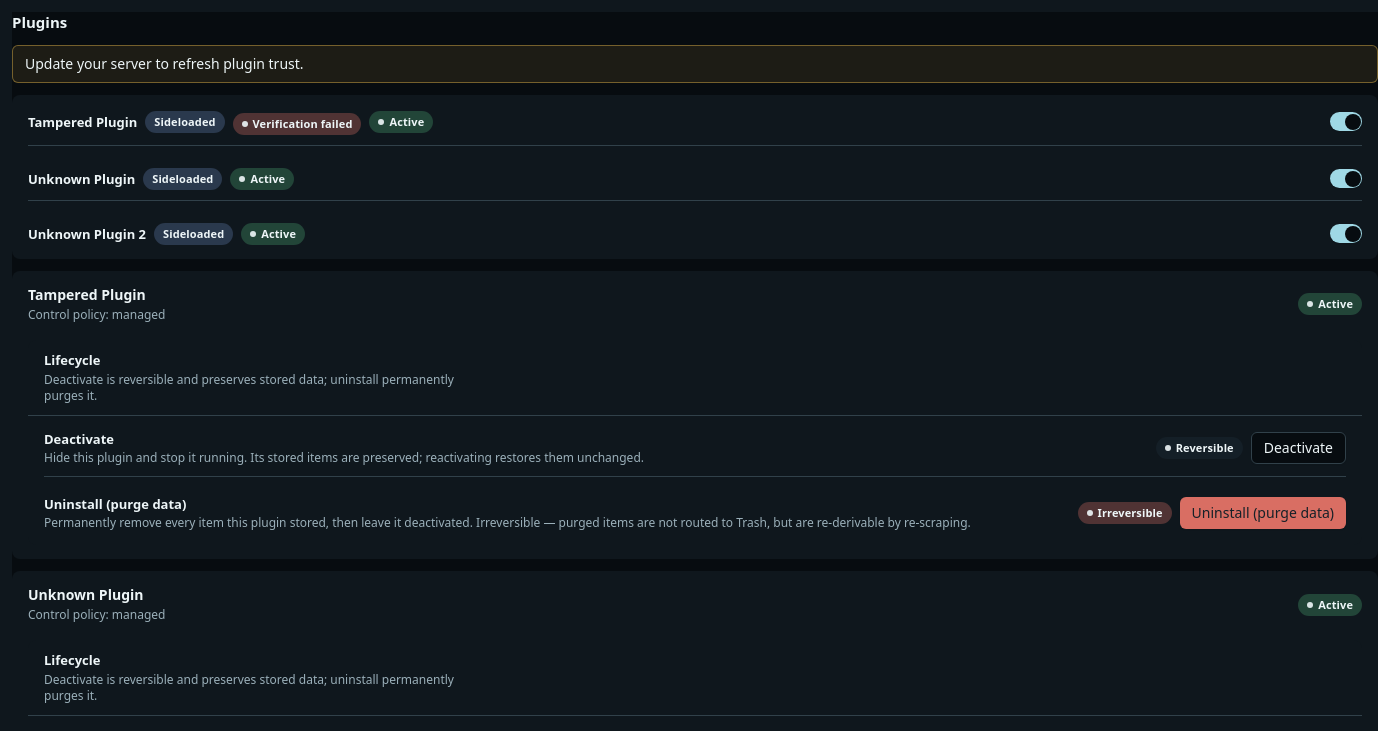
Test: Plugins › shows tamper detail and consolidates unrecognized trust into one banner
Step 1. Click the heading "Verification failed" → click(297, 122), box [233,109,362,135]
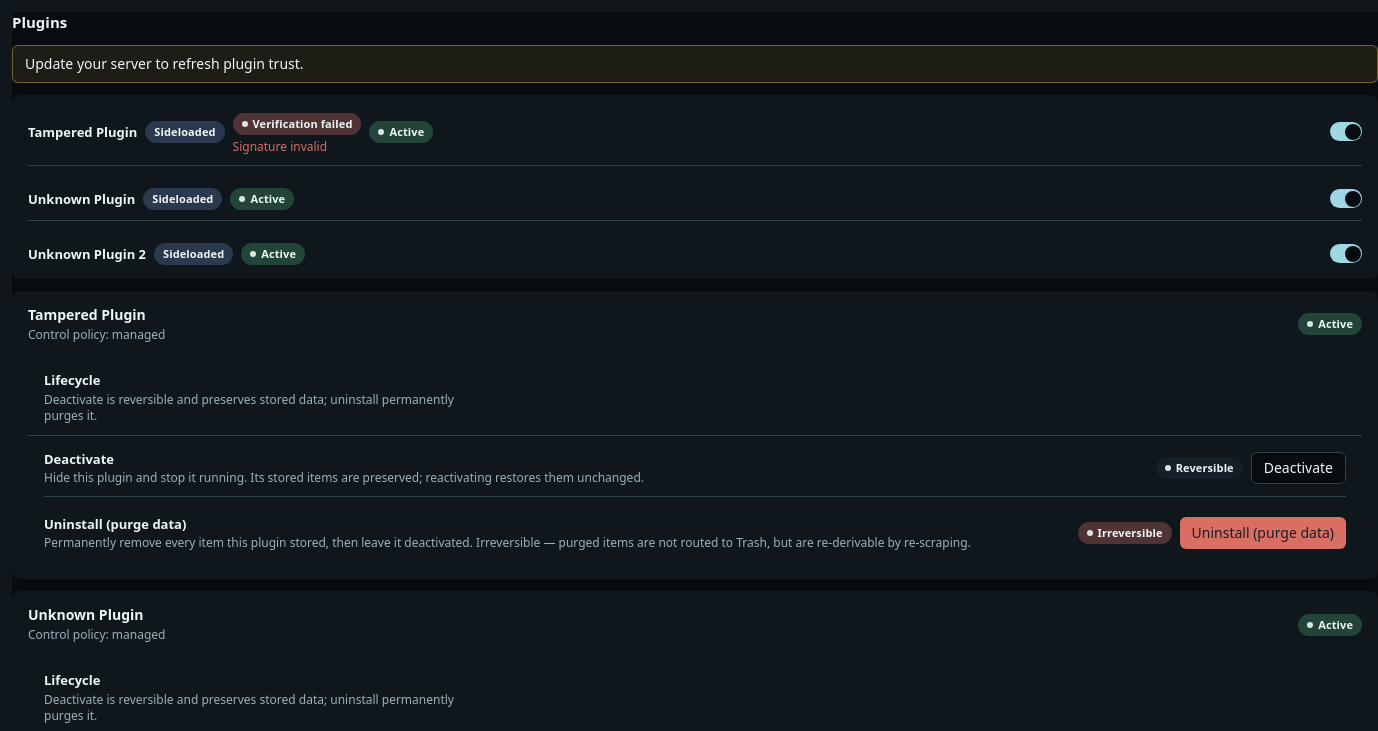
Expected: the 2nd text "Sideloaded" is shown, [143,188,222,210]
Now the text "Signature invalid" is shown, box [233,138,327,155]
